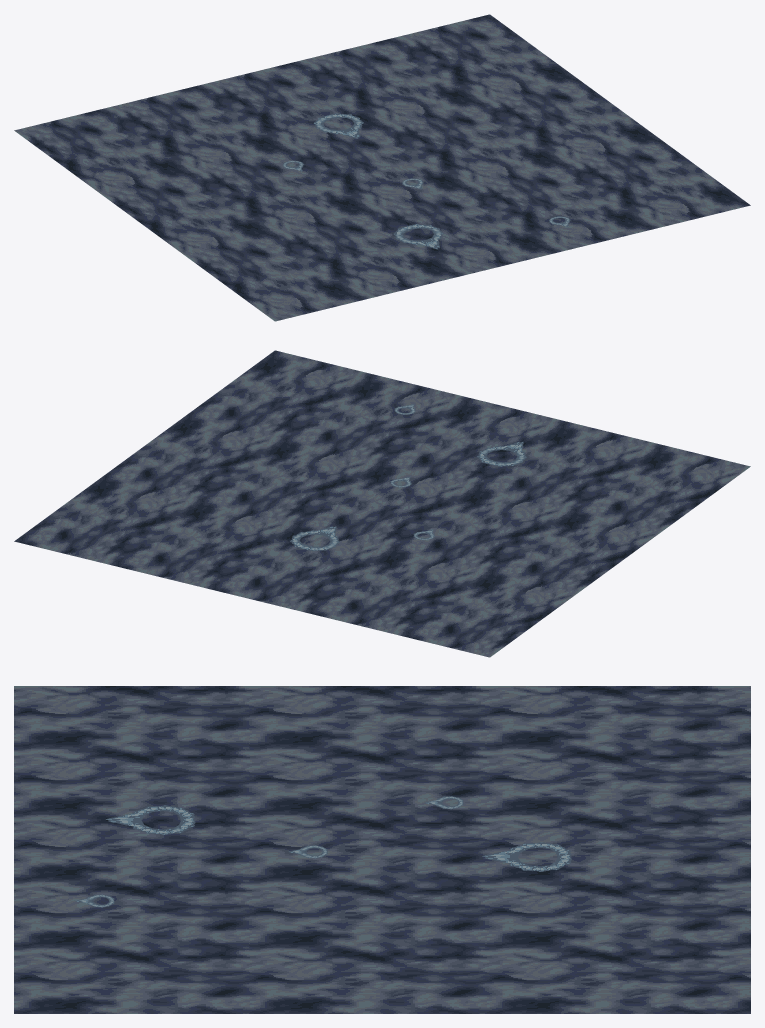
3 renders of one model, top to bottom at view 1: azimuth 30°, elevation 25°; view 2: azimuth 150°, elevation 25°; view 3: azimuth 270°, elevation 25°, orthographic. The views are drawn at different scales.
Bounding box in the file's own units: 40 × 0.125 × 38.
Materials: 3 (3 with a texture image).
